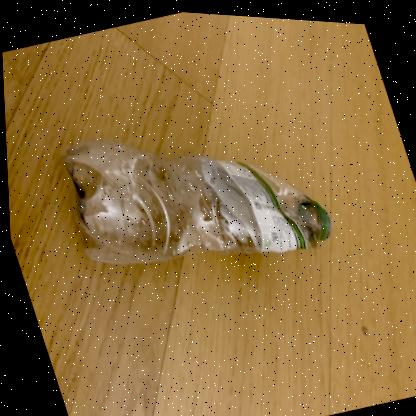Plastic: (61, 139, 329, 262)
